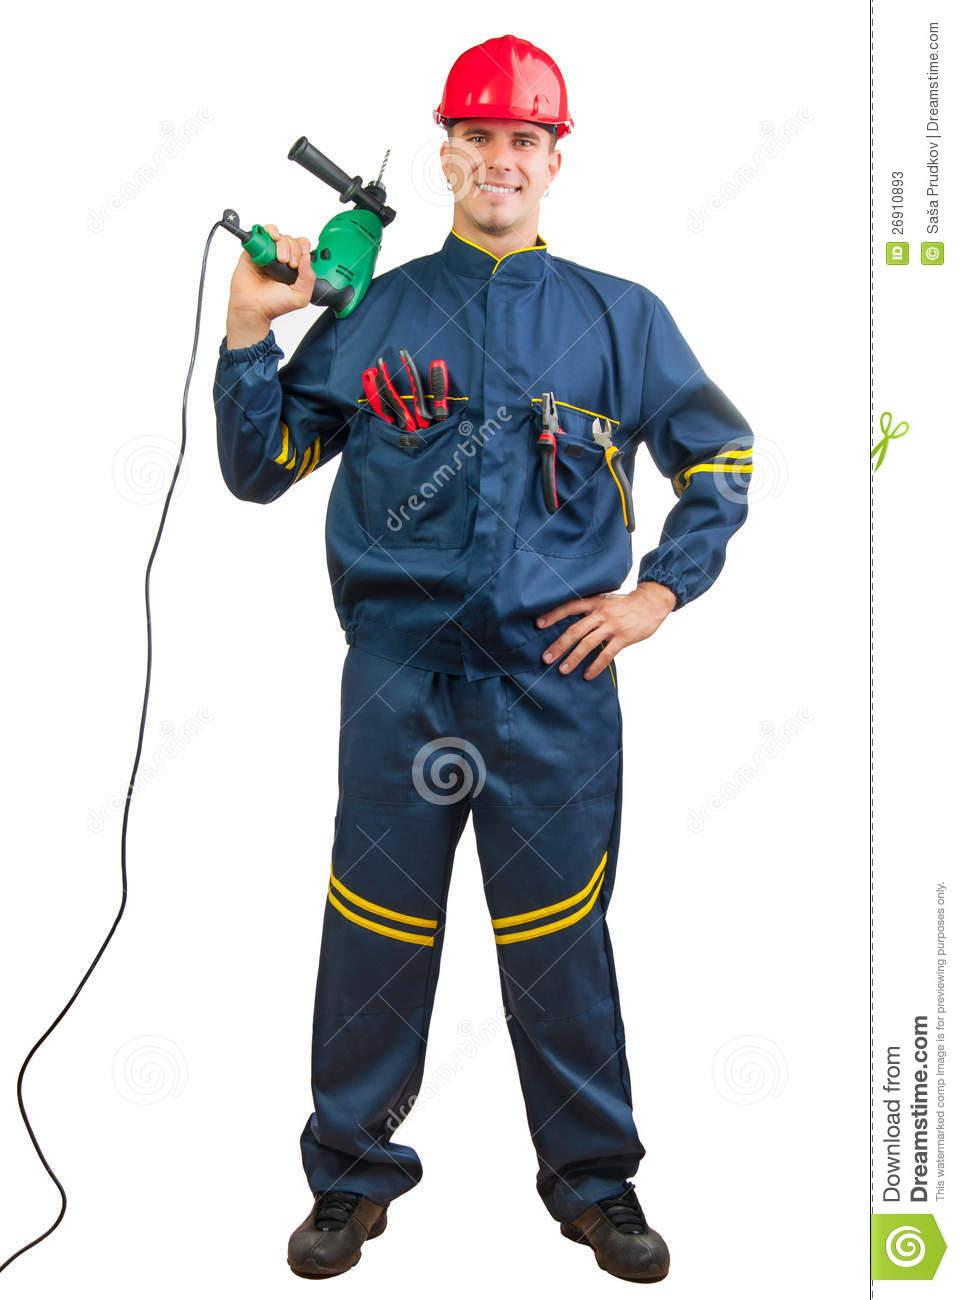helmet: (433, 35, 585, 131)
